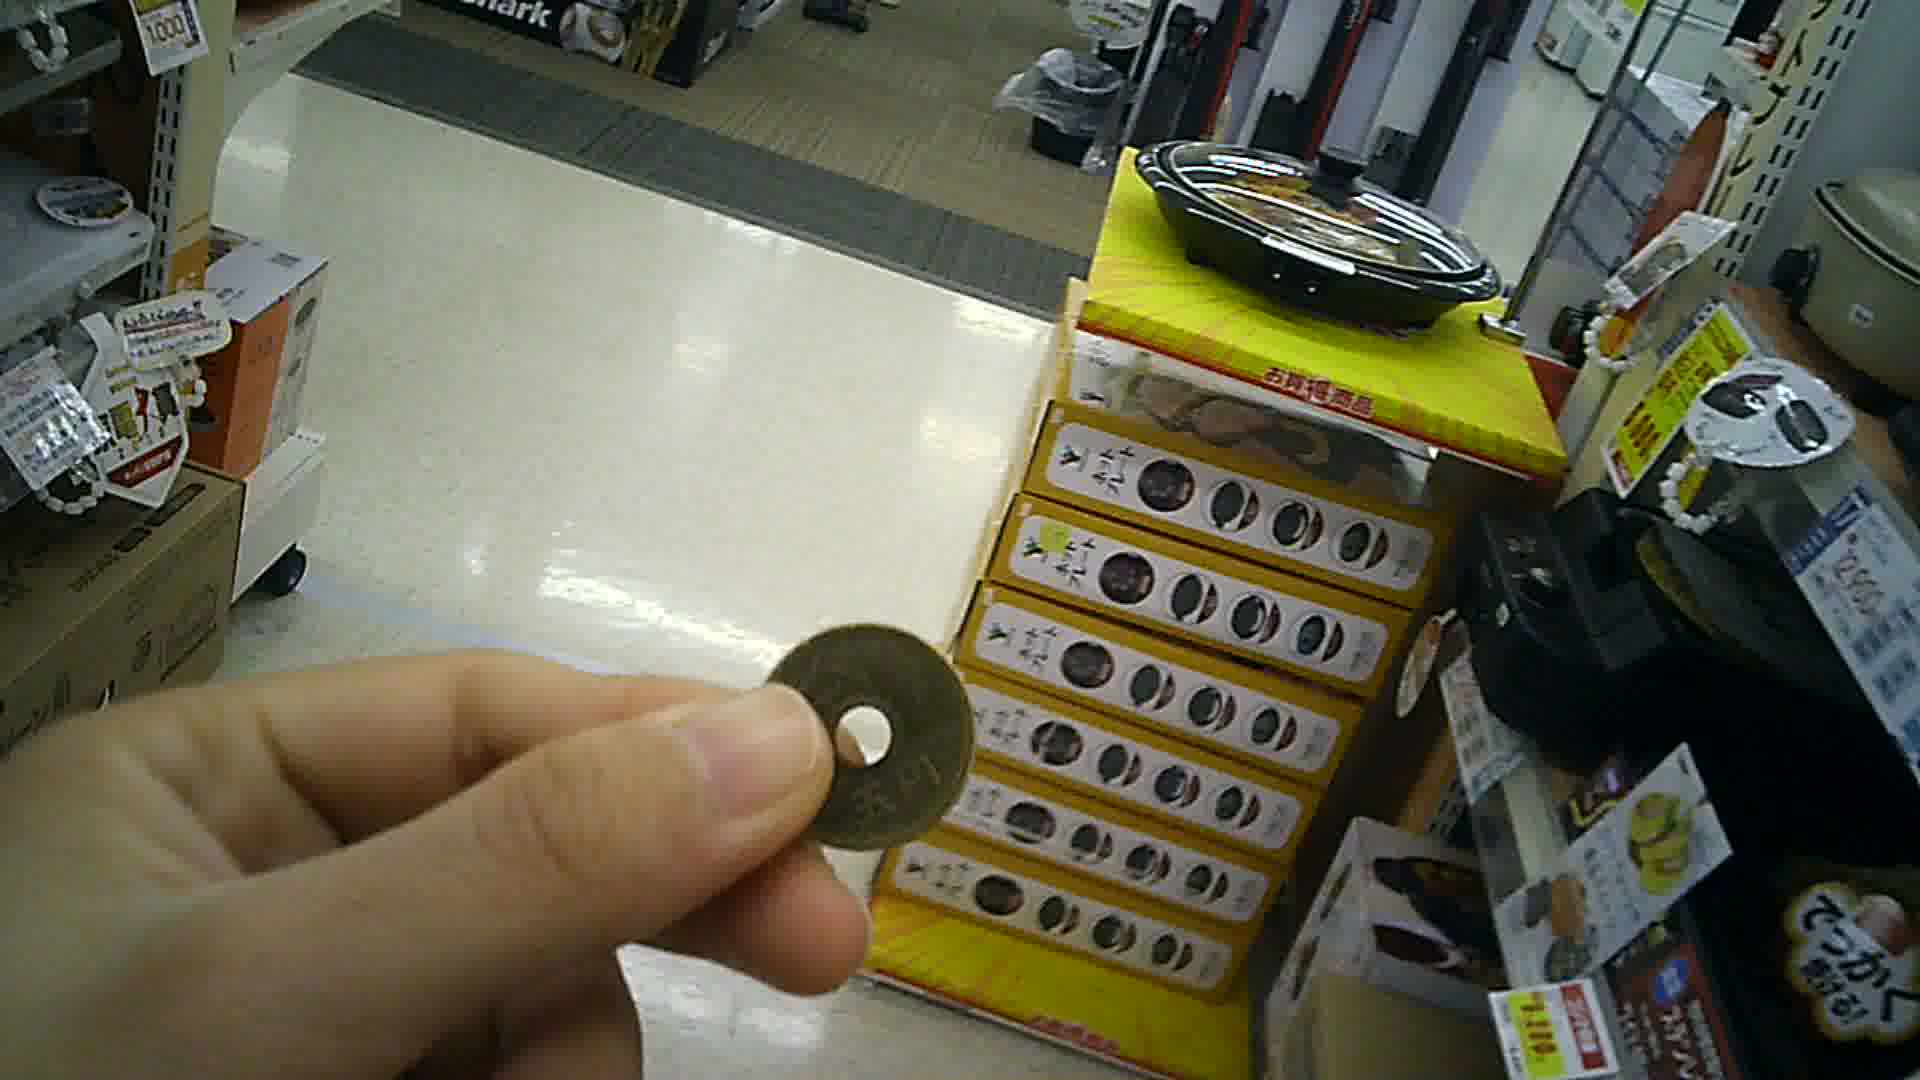5 Yen: (752, 611, 975, 861)
